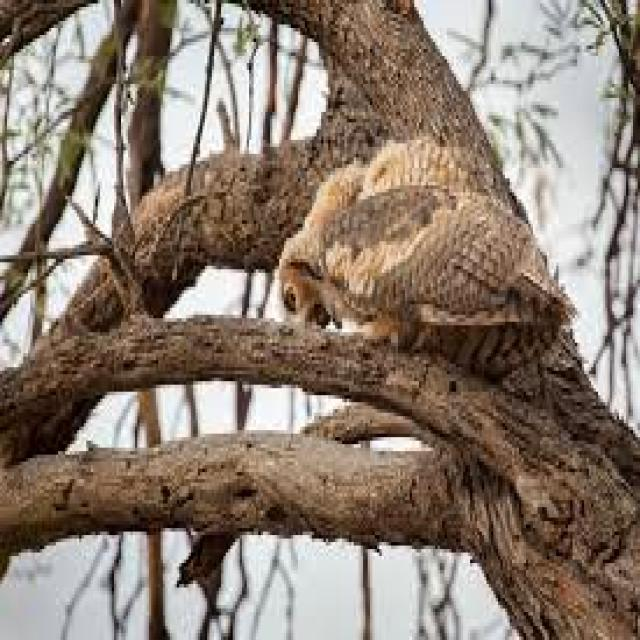owl: (279, 136, 570, 371)
